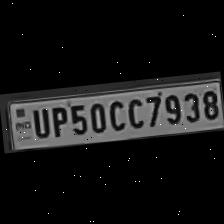0: (85, 98, 108, 134)
3: (178, 87, 201, 123)
5: (65, 100, 88, 136)
7: (140, 92, 162, 128)
8: (197, 85, 220, 121)
9: (160, 89, 182, 125)
C: (122, 93, 146, 130), (104, 96, 125, 132)
P: (46, 102, 68, 138)
U: (26, 104, 49, 140)
